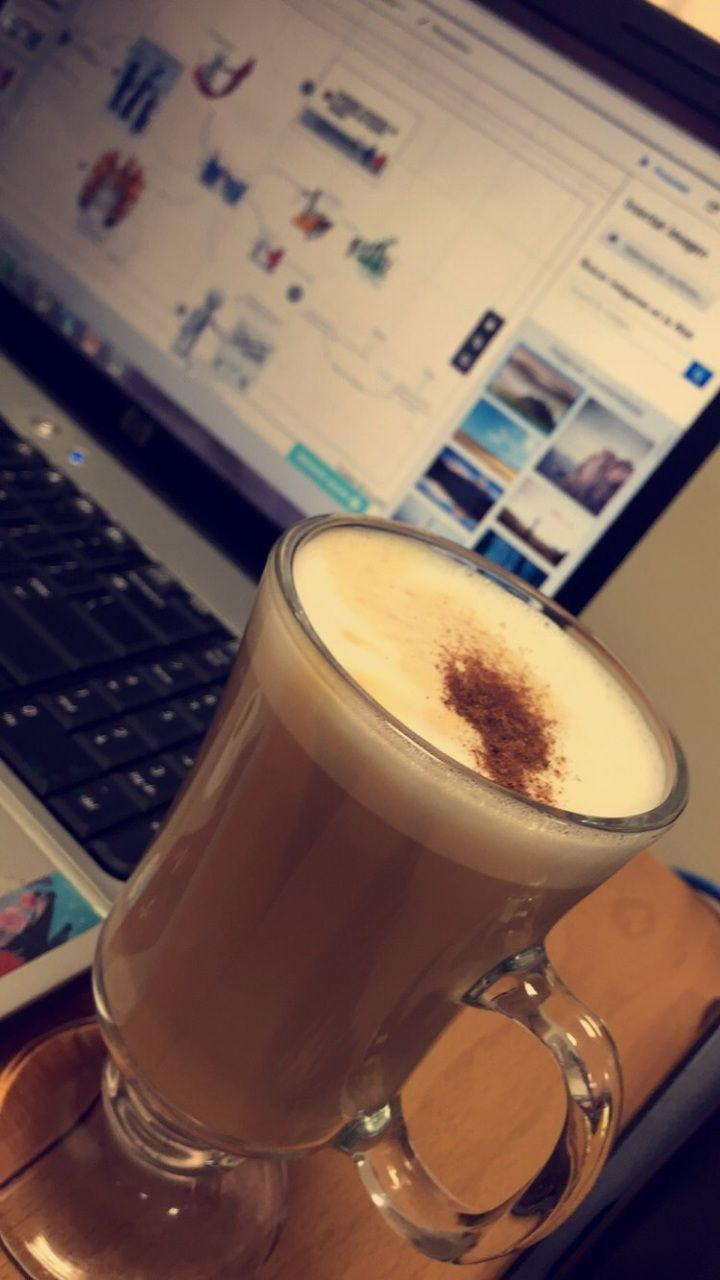glass-mug: (1, 512, 696, 1279)
